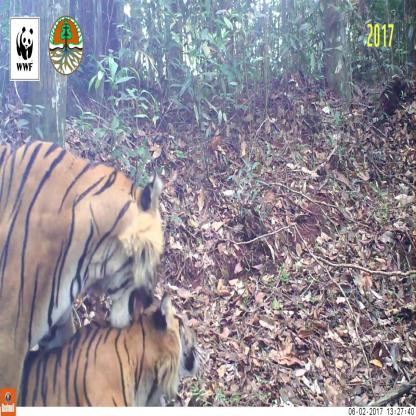Tiger: (0, 130, 175, 354), (29, 277, 200, 409)
